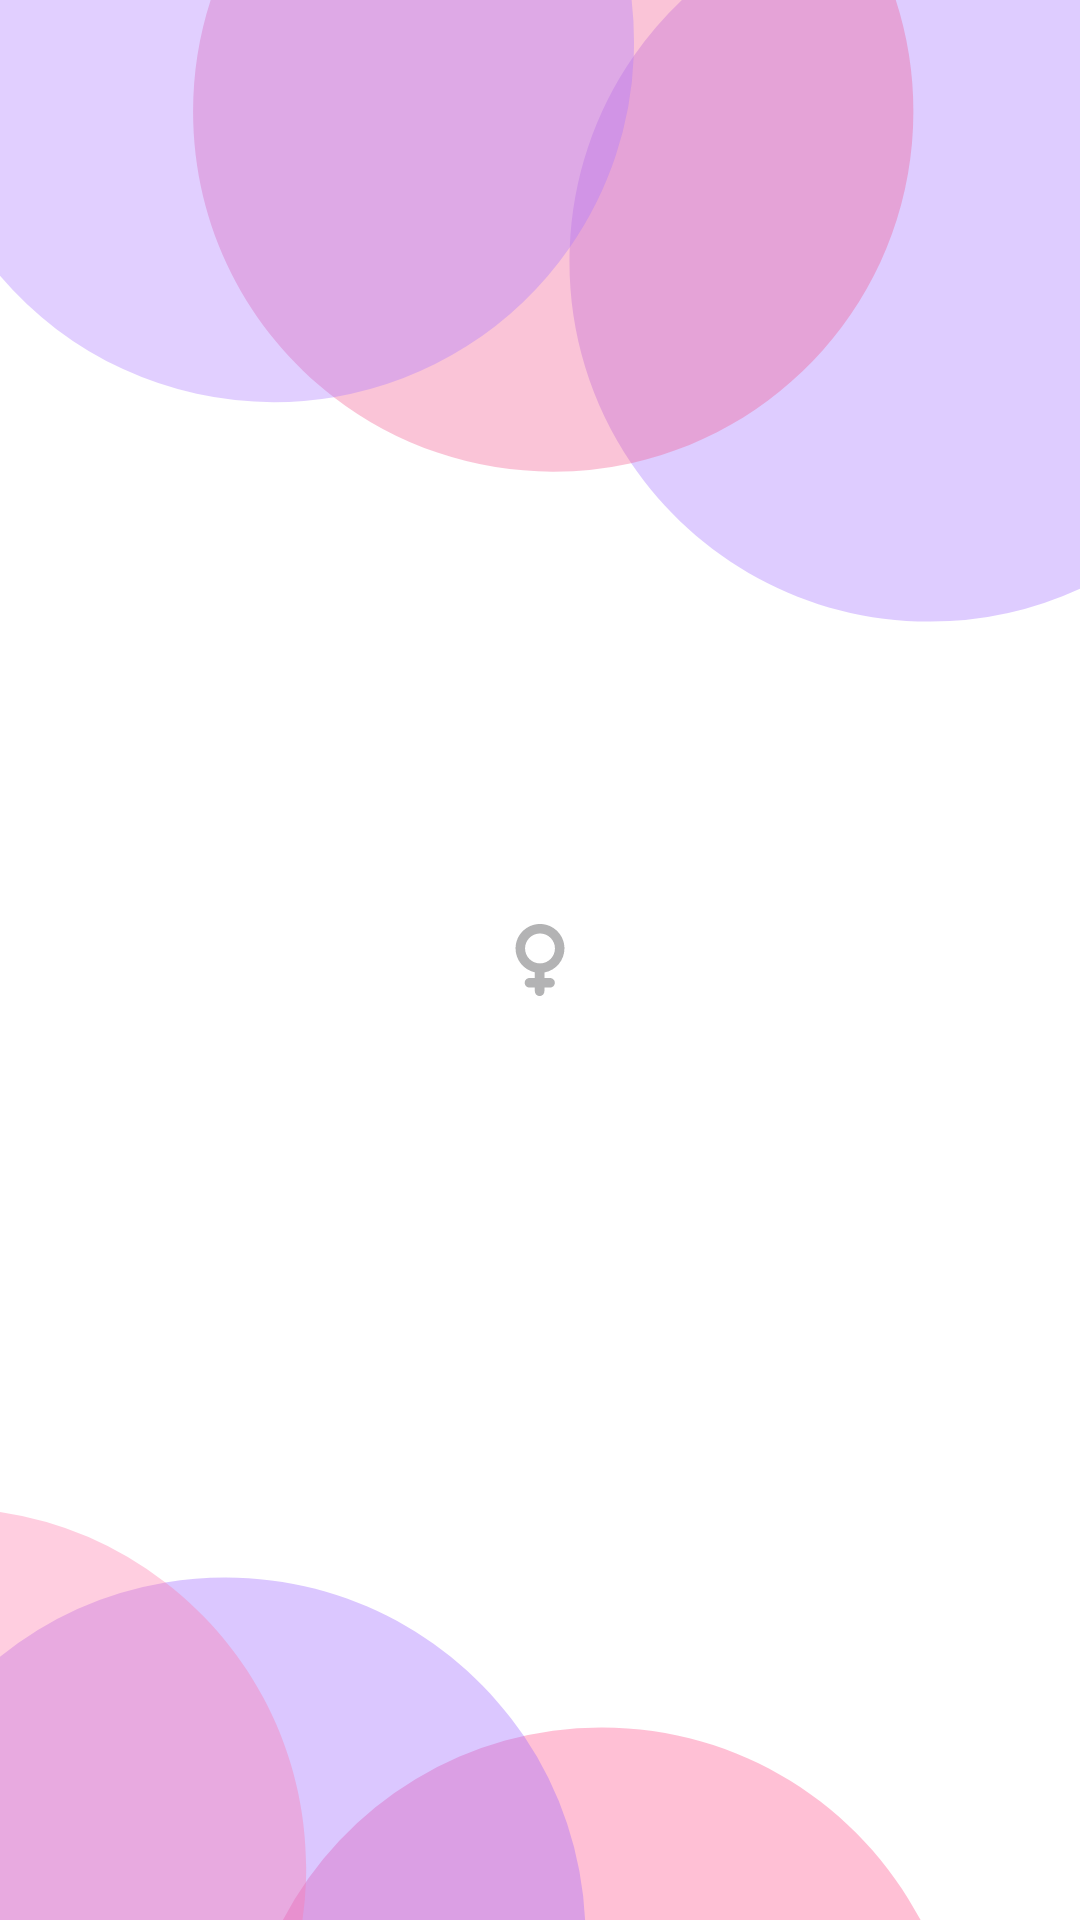

Screen size 1080*1920. Icon name, then its box in pixels as bbox=[x1, y1, x2, y2]:
female: bbox=[515, 924, 565, 996]
